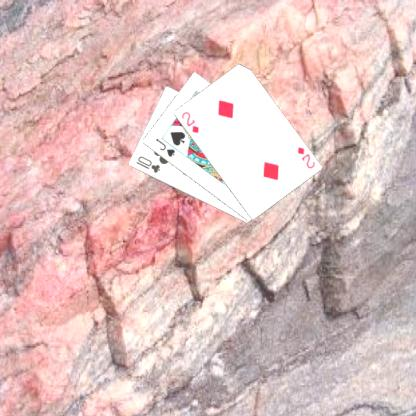10C: (133, 153, 161, 175)
2D: (294, 144, 316, 170), (178, 109, 200, 134)
JS: (152, 136, 176, 158)
